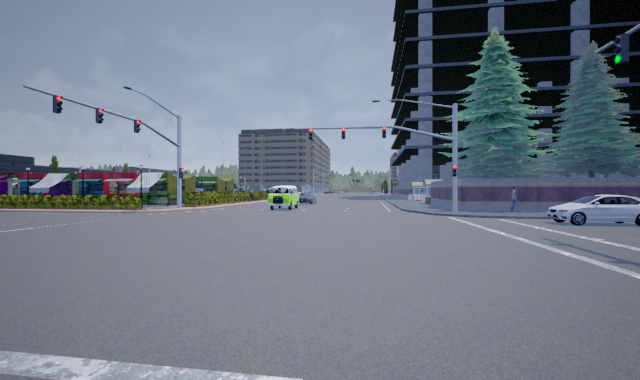pedestrian: (507, 185, 520, 212)
vehicle: (545, 194, 639, 225), (267, 185, 301, 212), (295, 192, 315, 205)
